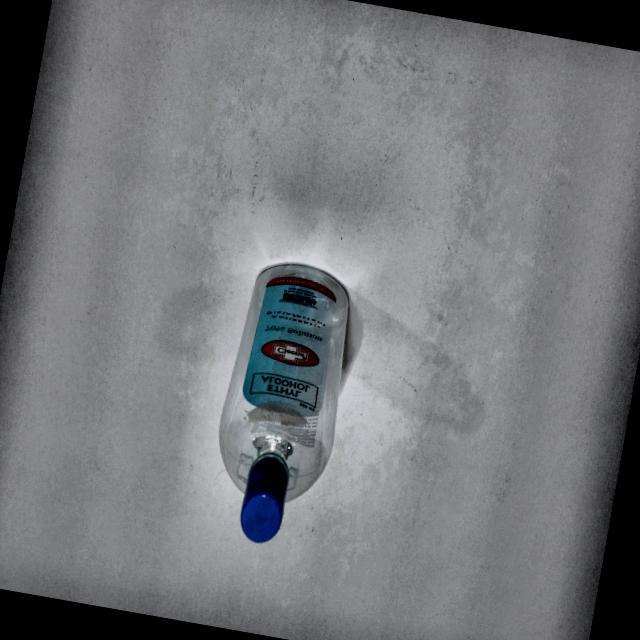plastic bottle: (218, 265, 348, 543)
